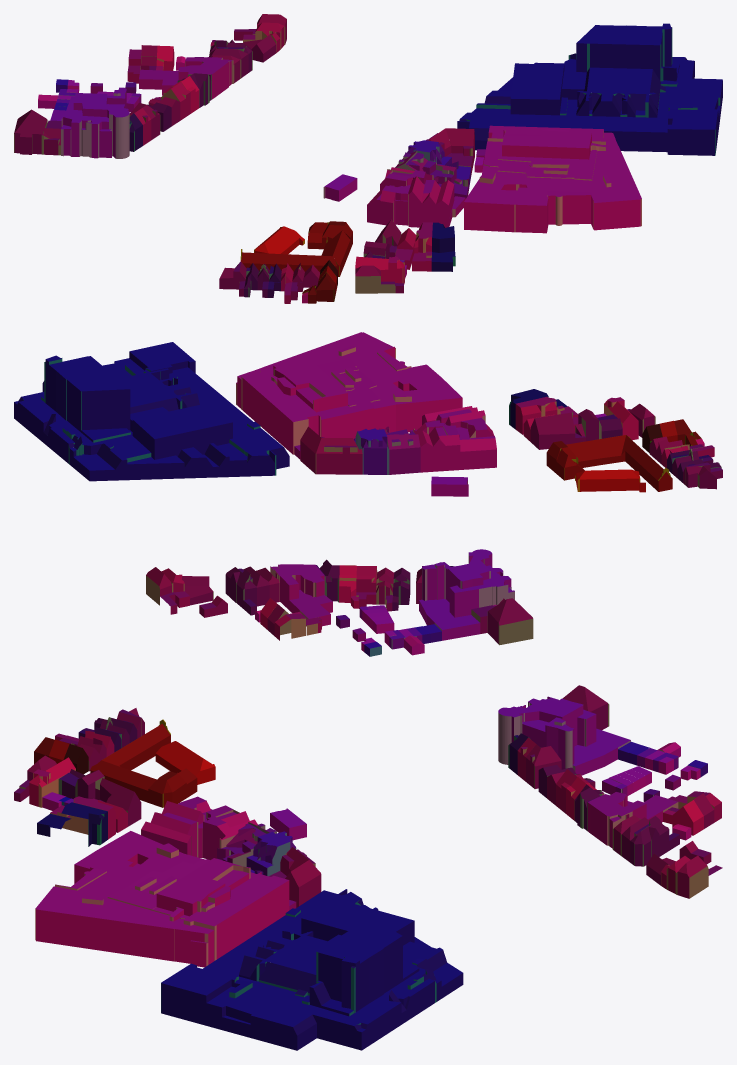
Rendered from buildings_7_8.glb.
The picture shows the model from 3 angles, top to bottom: view 1: azimuth 30°, elevation 25°; view 2: azimuth 150°, elevation 25°; view 3: azimuth 270°, elevation 25°; orthographic projection. The views are drawn at different scales.
Parts seen in each view (by area): view 1: buildings_7_8; view 2: buildings_7_8; view 3: buildings_7_8.
Boxes of the visible parts, x1=… form: buildings_7_8: x1=14, y1=14, x2=722, y2=303; buildings_7_8: x1=14, y1=332, x2=722, y2=656; buildings_7_8: x1=14, y1=685, x2=722, y2=1050.
Size of the model in its own units: 237 by 23.75 by 212.
